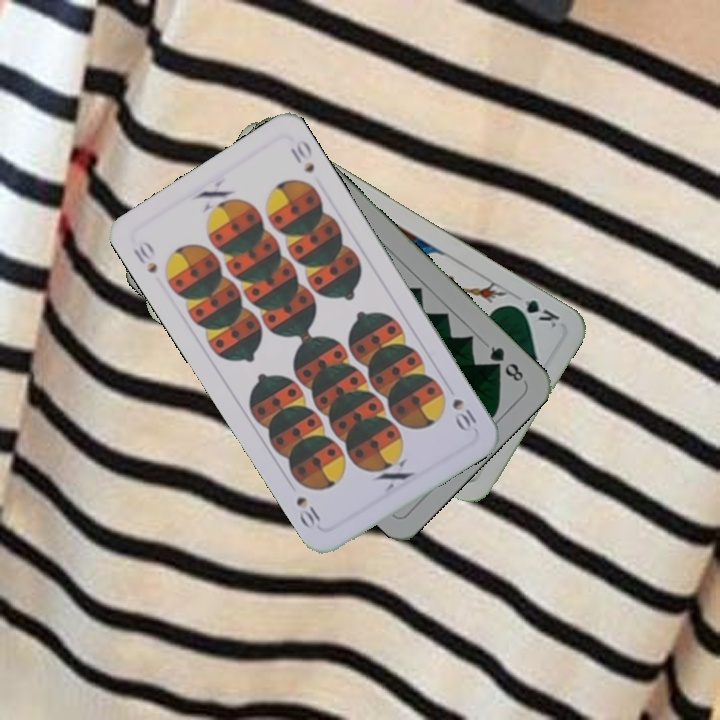G8: (485, 342, 527, 385)
GK: (506, 293, 563, 330)
S10: (448, 394, 480, 434), (128, 237, 160, 276)
